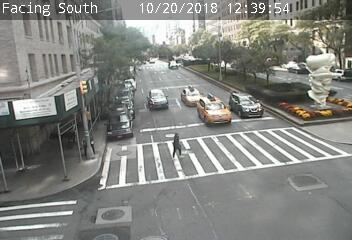car: (196, 95, 230, 124), (230, 92, 263, 118), (181, 86, 204, 107), (147, 89, 168, 108)
